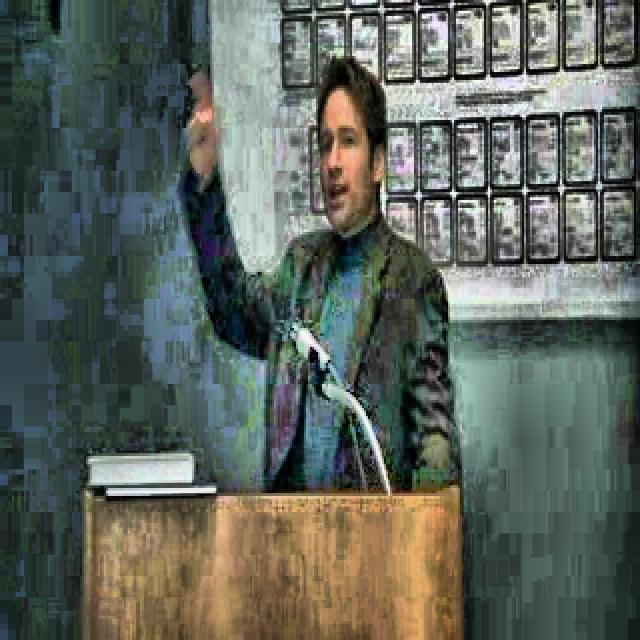T: (158, 36, 476, 512)
